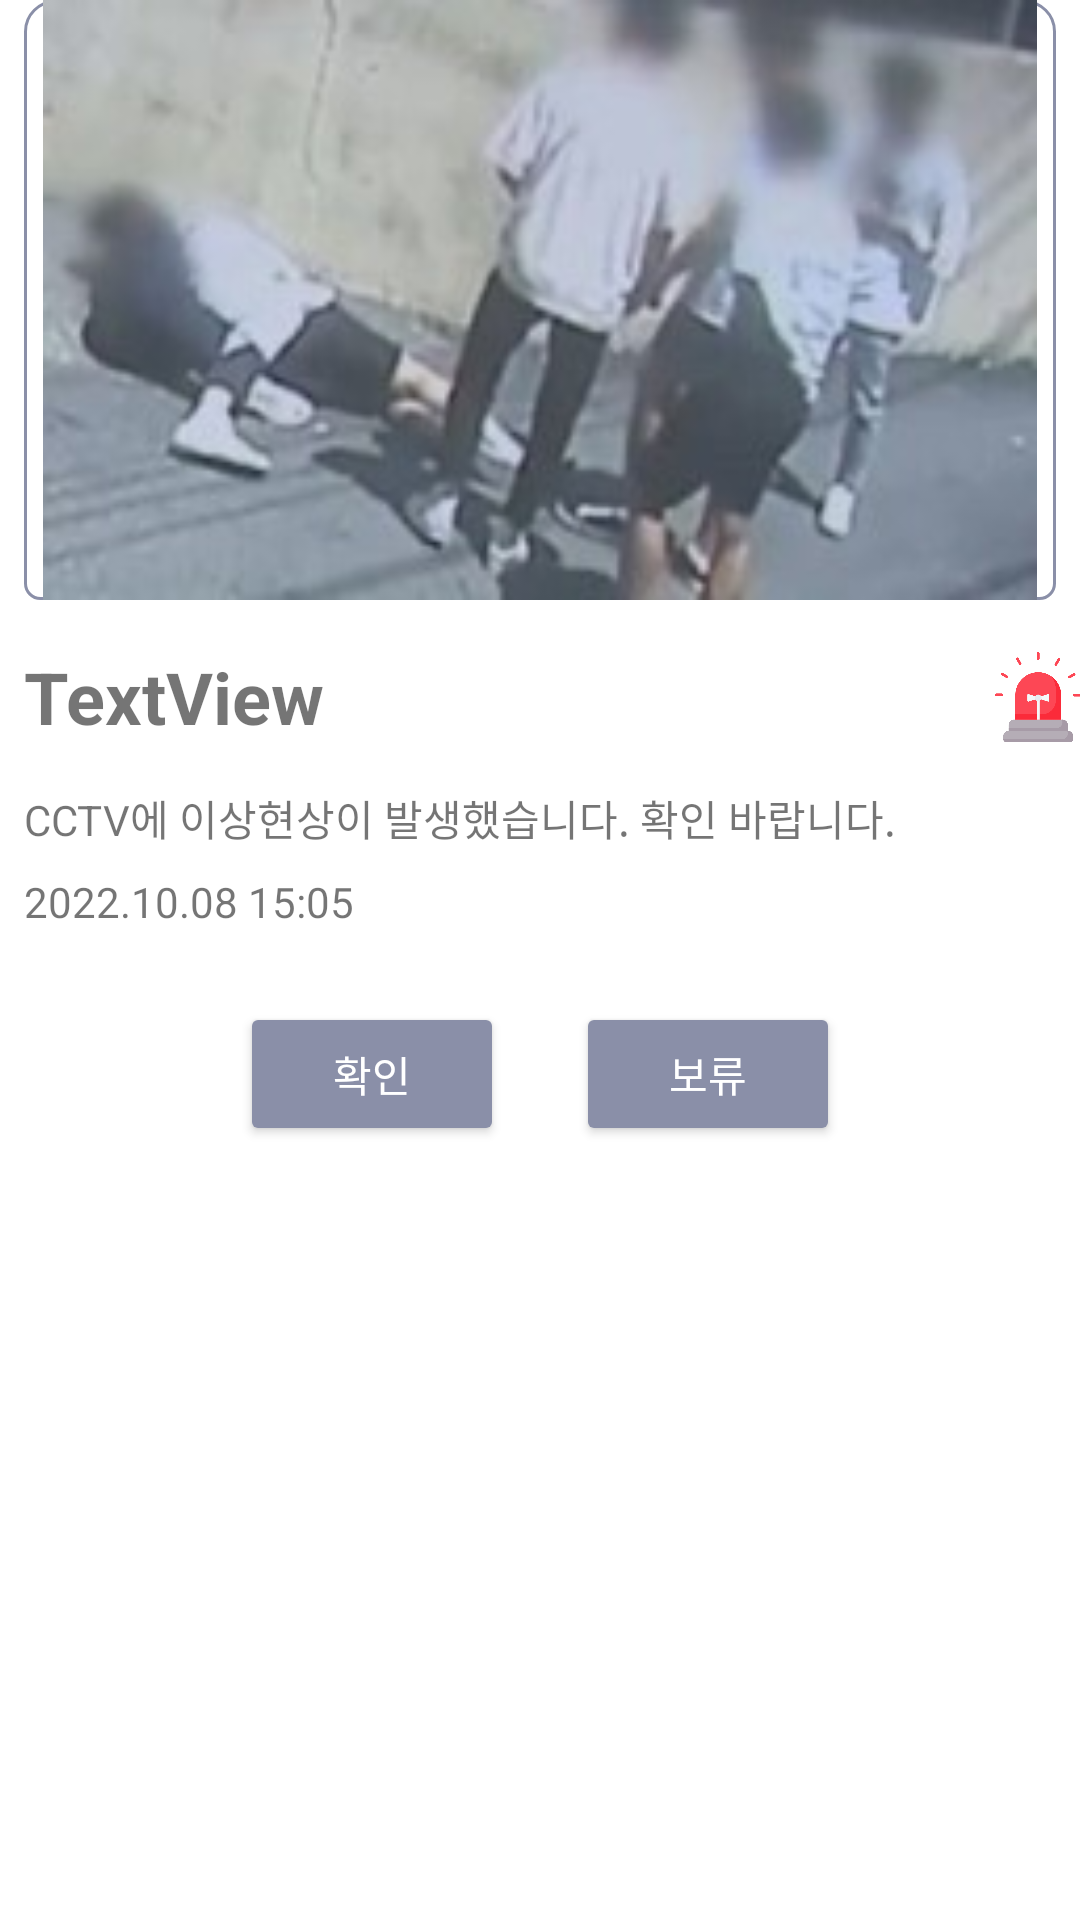

Icon bounding boxes for this 1080*1920 phone screenshot, format (x1, y1, x2, y2):
warning: (995, 652, 1080, 742)
